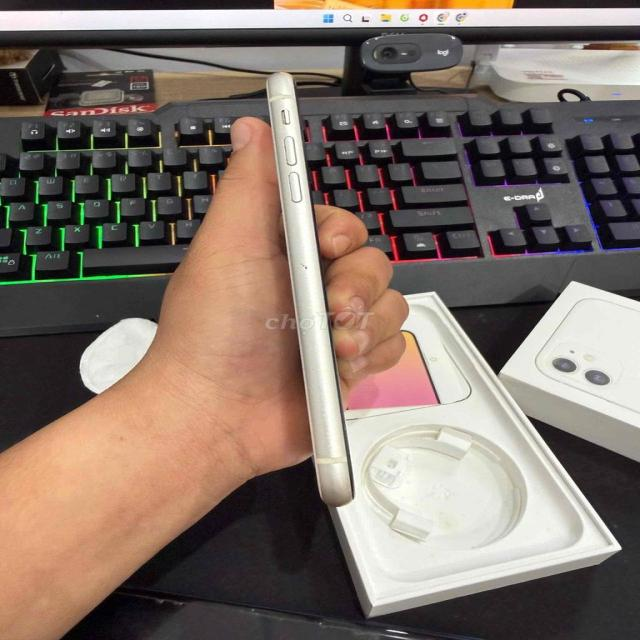scratch: (290, 256, 328, 287)
